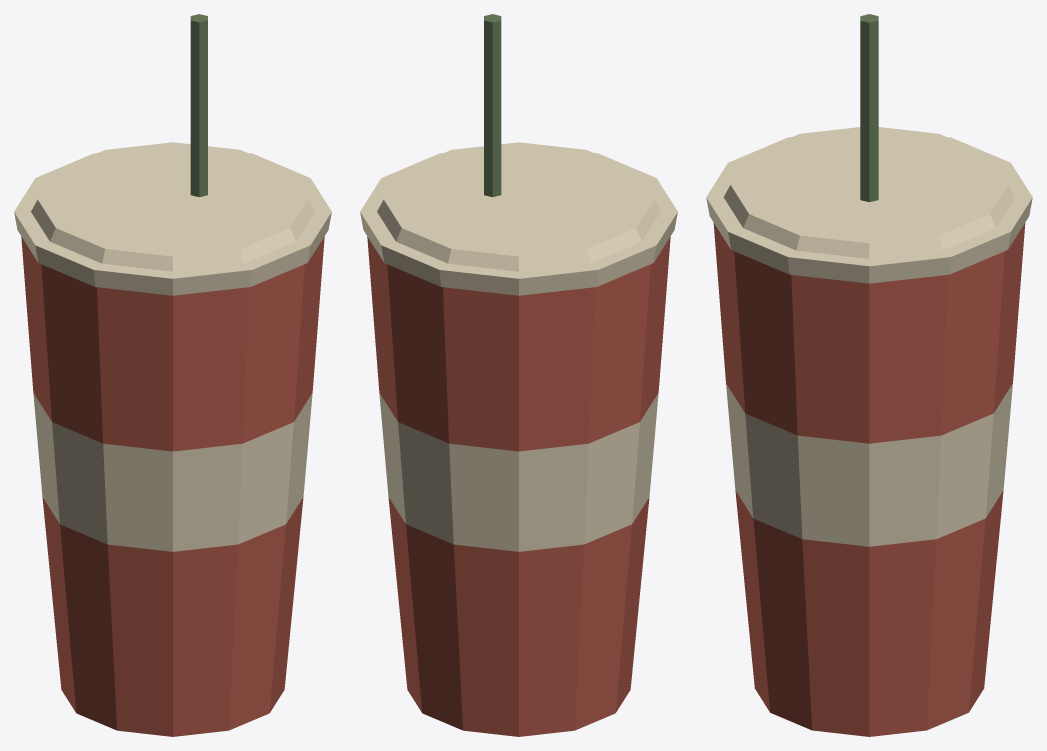
Rendered from lwf_soft_drink_cup_v1.glb.
3 views of the same model, side by side, from view 1: azimuth 30°, elevation 25°; view 2: azimuth 150°, elevation 25°; view 3: azimuth 270°, elevation 25° (orthographic). The views are drawn at different scales.
Visible parts, largest first — view 1: LWF_SoftDrinkCupV1; view 2: LWF_SoftDrinkCupV1; view 3: LWF_SoftDrinkCupV1.
Part boxes in pixels (<box>): LWF_SoftDrinkCupV1: <box>14,14,331,736</box>; LWF_SoftDrinkCupV1: <box>360,14,677,736</box>; LWF_SoftDrinkCupV1: <box>706,14,1032,736</box>.
Size of the model in its own units: 0.094 by 0.217 by 0.094.
